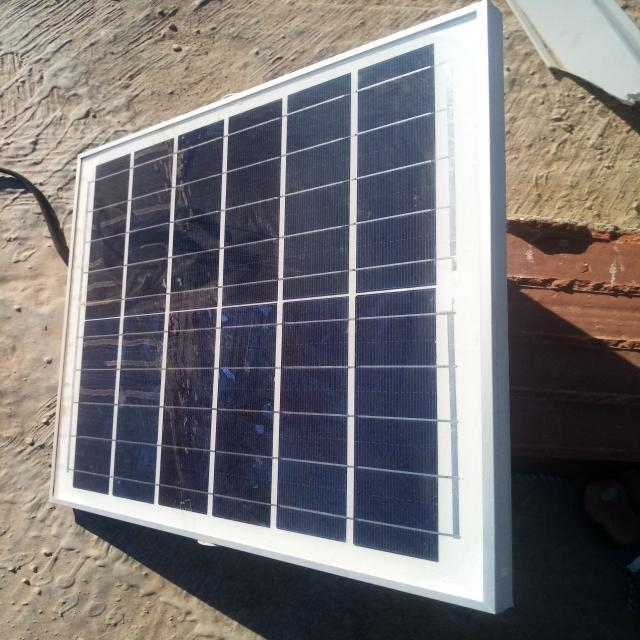no faulty: (51, 5, 494, 608)
